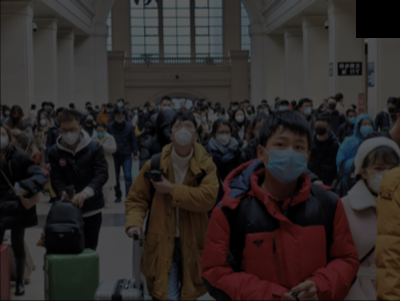with_mask: (262, 134, 308, 183), (364, 159, 398, 196), (170, 120, 195, 146), (60, 124, 79, 143), (214, 127, 231, 145), (357, 119, 373, 137), (313, 122, 328, 135), (0, 128, 9, 148), (345, 111, 356, 124), (300, 102, 311, 114), (192, 113, 201, 127), (9, 111, 21, 121), (234, 112, 245, 122), (96, 127, 106, 137), (38, 115, 48, 125), (160, 101, 171, 110), (326, 100, 336, 109), (278, 102, 288, 110), (114, 114, 124, 122), (386, 104, 395, 112), (85, 115, 93, 124), (218, 111, 225, 118), (116, 100, 123, 107), (245, 107, 252, 113), (105, 106, 112, 111)
without_mask: (179, 102, 185, 108)
